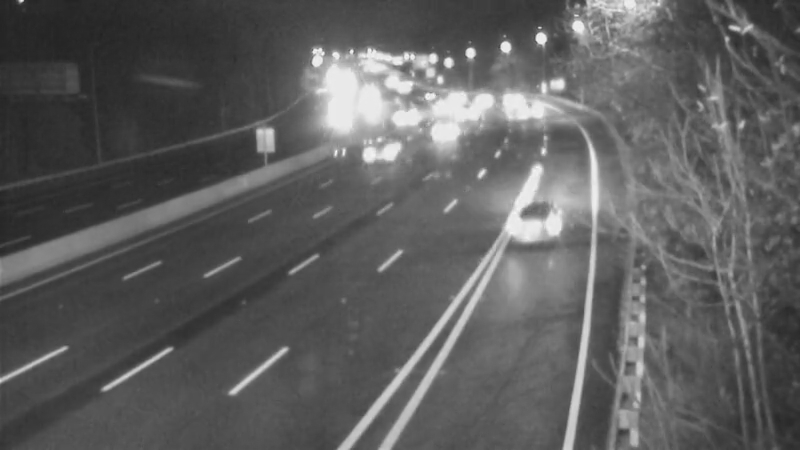vehicle: (340, 114, 420, 194), (497, 182, 577, 262), (402, 71, 452, 121), (432, 72, 482, 122), (483, 72, 533, 122), (458, 79, 508, 129), (418, 81, 468, 131), (509, 89, 559, 139), (440, 91, 490, 141), (379, 92, 429, 142), (420, 106, 470, 156), (317, 84, 367, 134)
